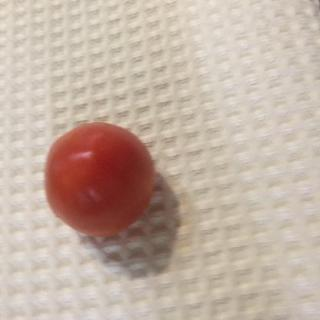Tomat: (40, 122, 162, 245)
